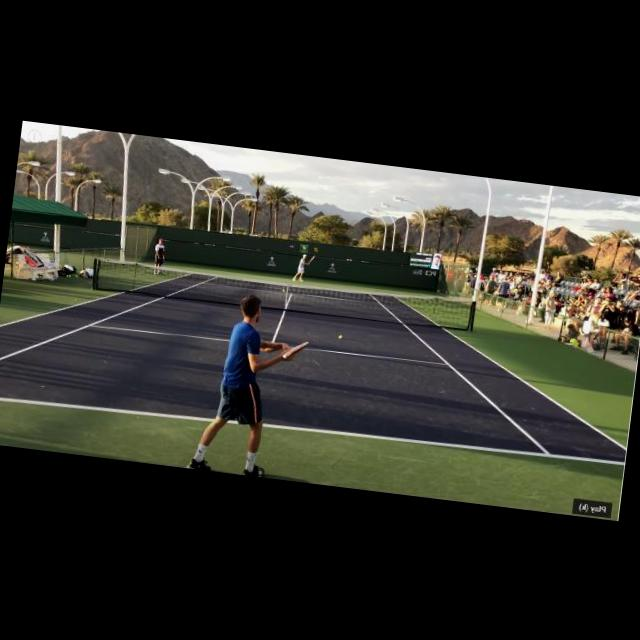Tennis Ball: (338, 333, 342, 338)
